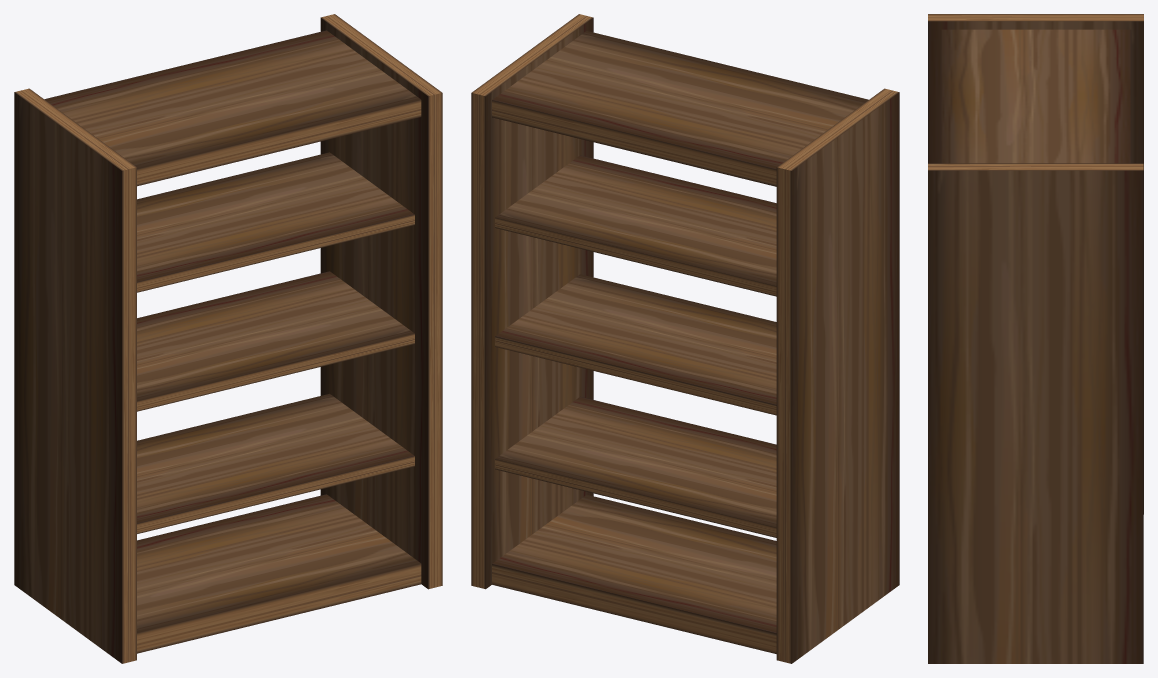
The model's file is Rack_02.FBX.
3 views of the same model, side by side, from view 1: azimuth 30°, elevation 25°; view 2: azimuth 150°, elevation 25°; view 3: azimuth 270°, elevation 25° (orthographic).
Visible parts, largest first — view 1: Rack_02; view 2: Rack_02; view 3: Rack_02.
Part boxes in pixels (x1,y1,x2,y2): Rack_02: [14, 14, 442, 663]; Rack_02: [471, 14, 899, 663]; Rack_02: [928, 14, 1143, 663].
Size of the model in its own units: 1.09 by 1.6 by 0.6349.
